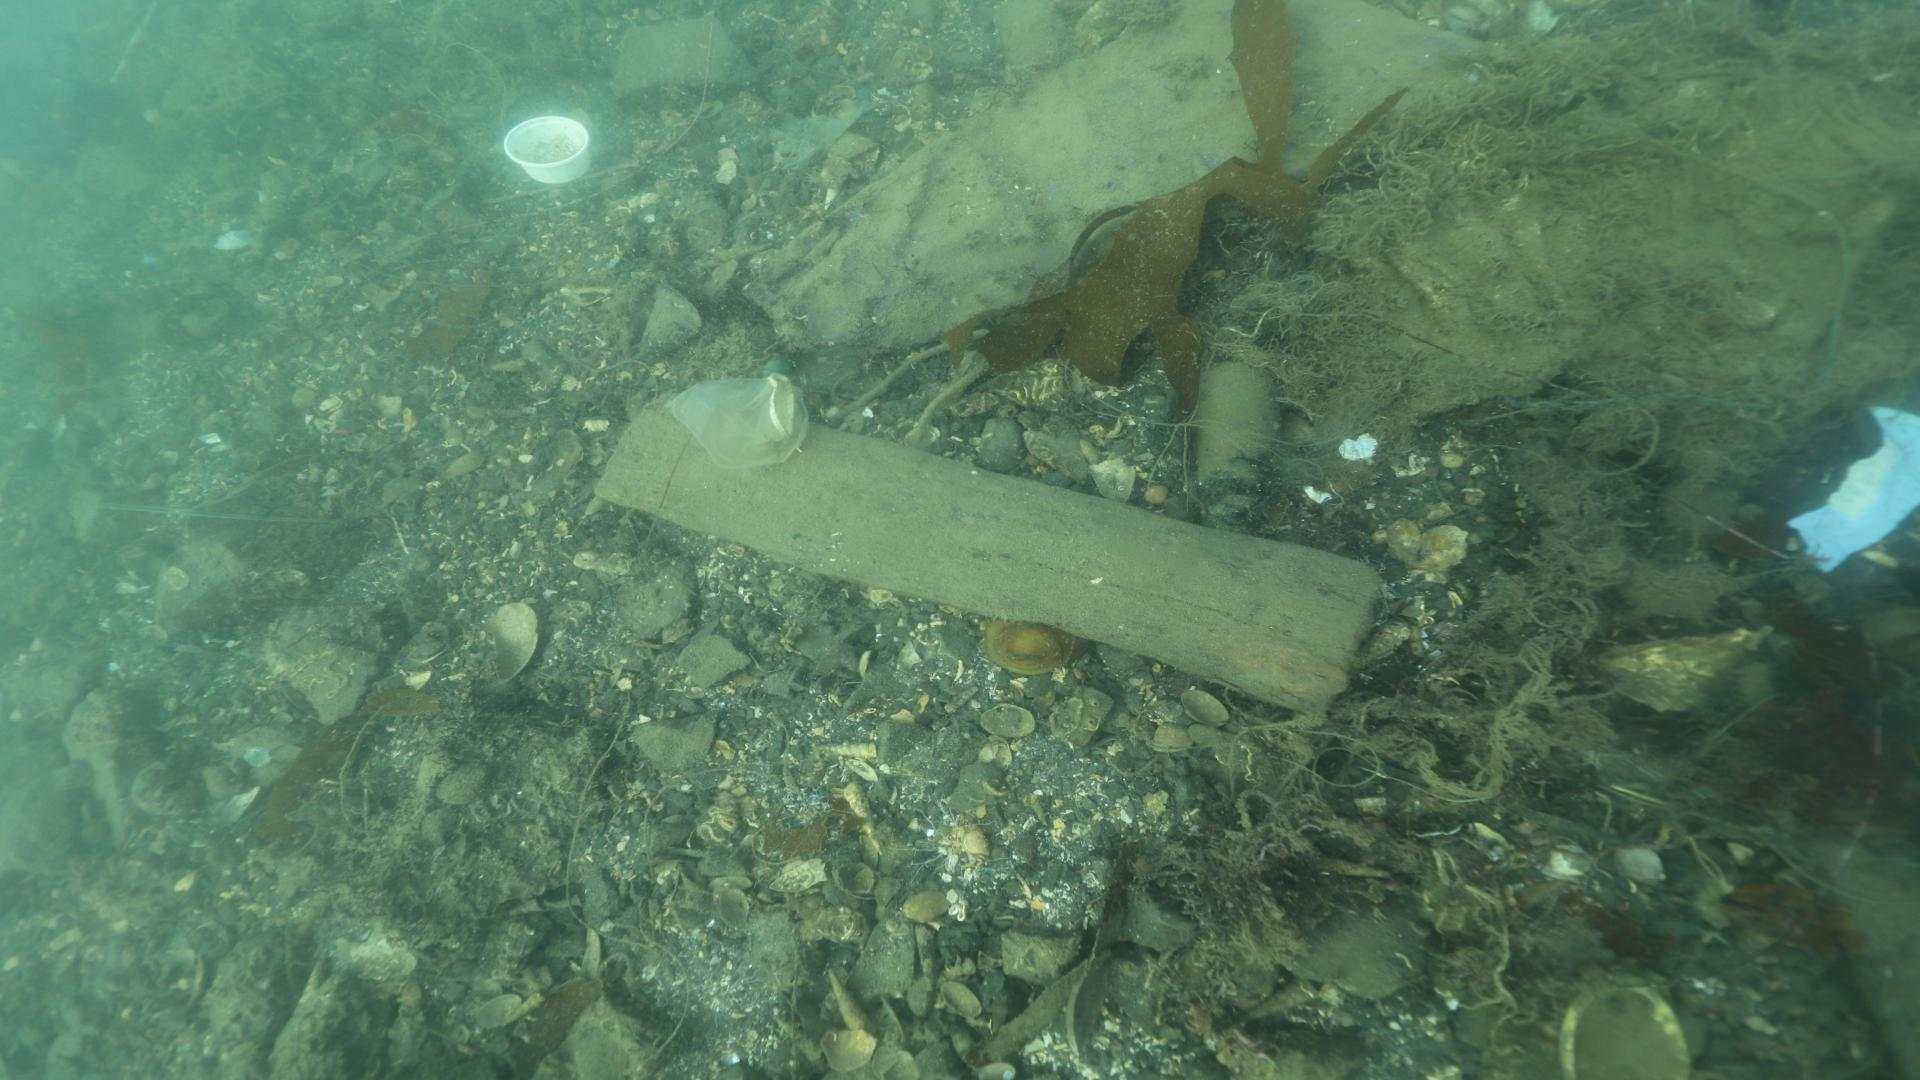wood: (589, 385, 1391, 723)
